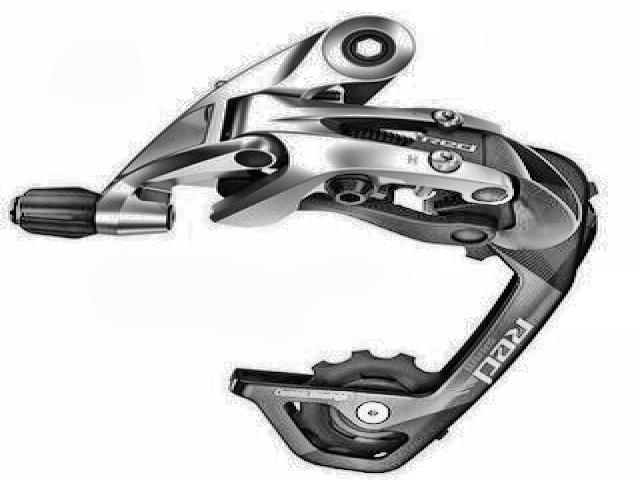rear_derailleur: (11, 13, 604, 468)
